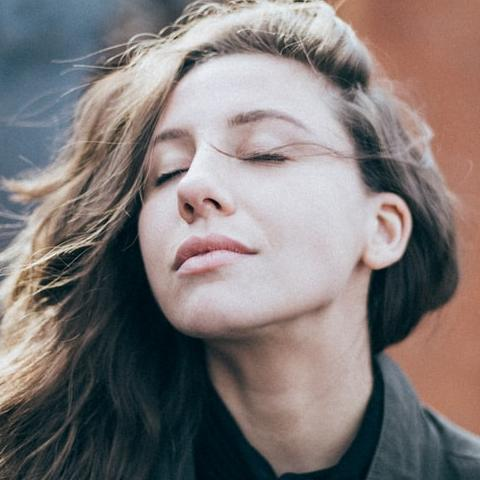closed: (137, 114, 308, 192)
